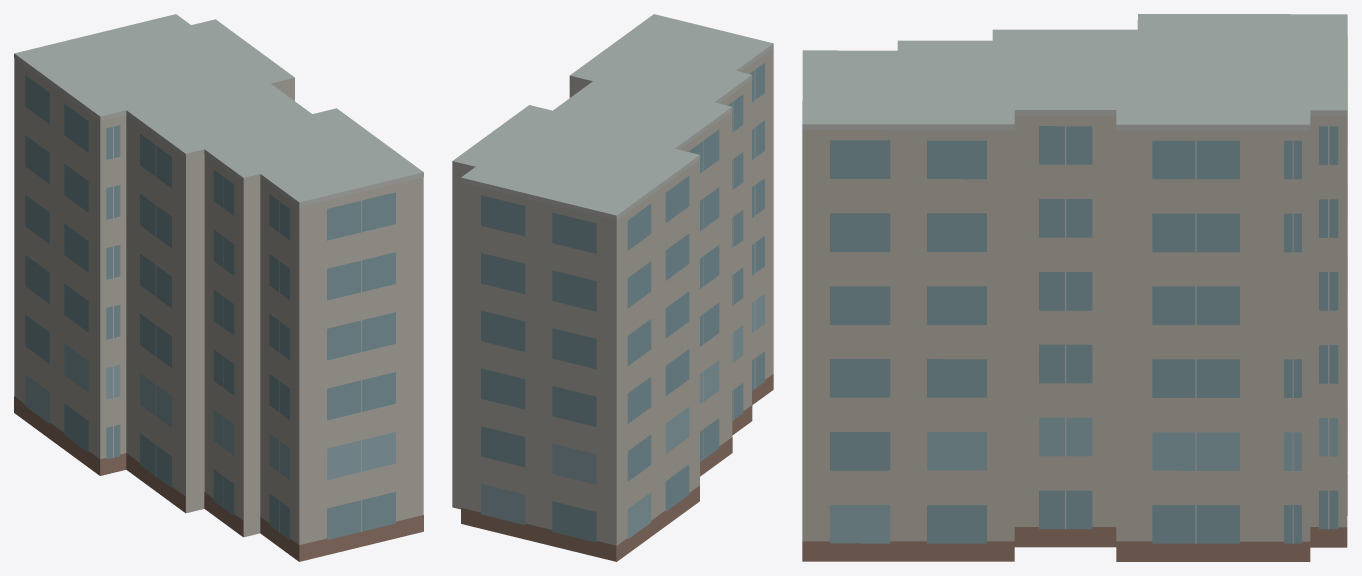
File: survey-upis-32666009.glb
3 renders of one model, left to right at view 1: azimuth 30°, elevation 25°; view 2: azimuth 150°, elevation 25°; view 3: azimuth 270°, elevation 25°, orthographic. The views are drawn at different scales.
Visible parts, largest first — view 1: survey-upis-32666009.tmp; view 2: survey-upis-32666009.tmp; view 3: survey-upis-32666009.tmp.
Part boxes in pixels (left/top/right/bottom): survey-upis-32666009.tmp: left=14, top=14, right=423, bottom=561; survey-upis-32666009.tmp: left=452, top=14, right=773, bottom=561; survey-upis-32666009.tmp: left=802, top=14, right=1347, bottom=561.
Size of the model in its own units: 9.94 by 18.3 by 20.69.
